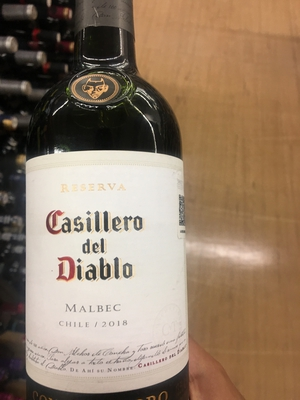casillero del diablo malbec: (22, 16, 196, 399)
